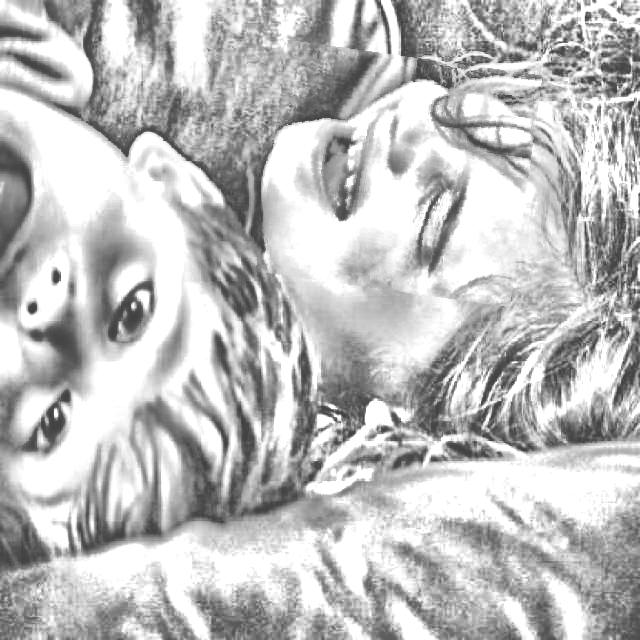happy: (262, 49, 534, 299)
